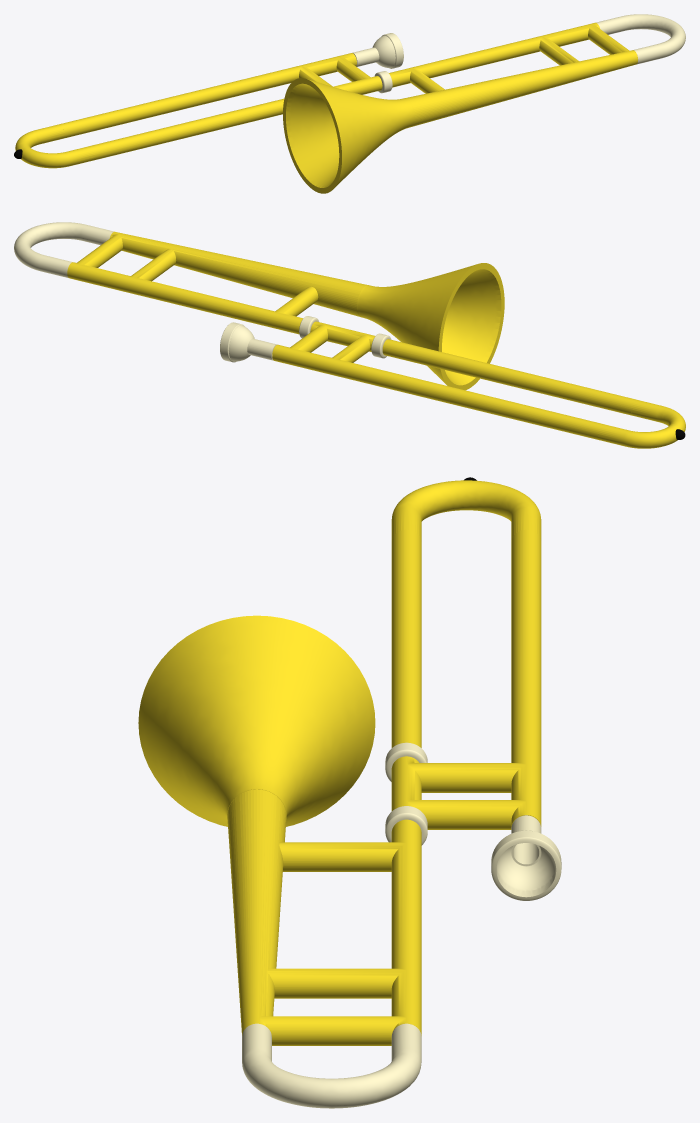
Rendered from trombone.glb.
3 renders of one model, top to bottom at view 1: azimuth 30°, elevation 25°; view 2: azimuth 150°, elevation 25°; view 3: azimuth 270°, elevation 25°, orthographic. The views are drawn at different scales.
Parts seen in each view (by area): view 1: Object_2, Object_3; view 2: Object_2, Object_3; view 3: Object_2, Object_3.
Boxes of the visible parts, left/top/right/bottom form: Object_2: left=15, top=22, right=637, bottom=193; Object_3: left=352, top=14, right=685, bottom=93; Object_2: left=67, top=231, right=685, bottom=448; Object_3: left=14, top=222, right=391, bottom=362; Object_2: left=138, top=480, right=541, bottom=1045; Object_3: left=242, top=742, right=561, bottom=1108.
Bounding box in the file's own units: 117 × 19 × 33.92.
